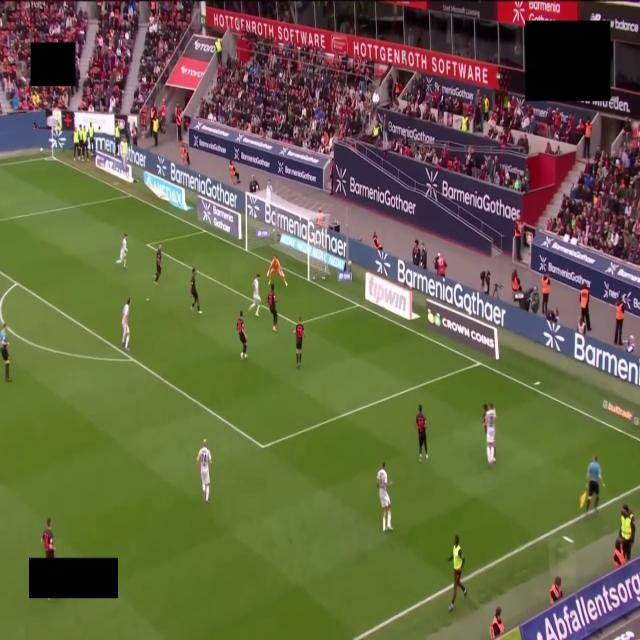player: (377, 463, 392, 531), (197, 440, 211, 503), (484, 403, 496, 467), (416, 405, 428, 462), (267, 256, 287, 286), (249, 273, 261, 317), (190, 268, 201, 313), (122, 298, 131, 351), (237, 312, 247, 359), (295, 318, 304, 367), (268, 284, 277, 332), (116, 234, 127, 268), (155, 244, 161, 283)
referee: (0, 323, 11, 382)
